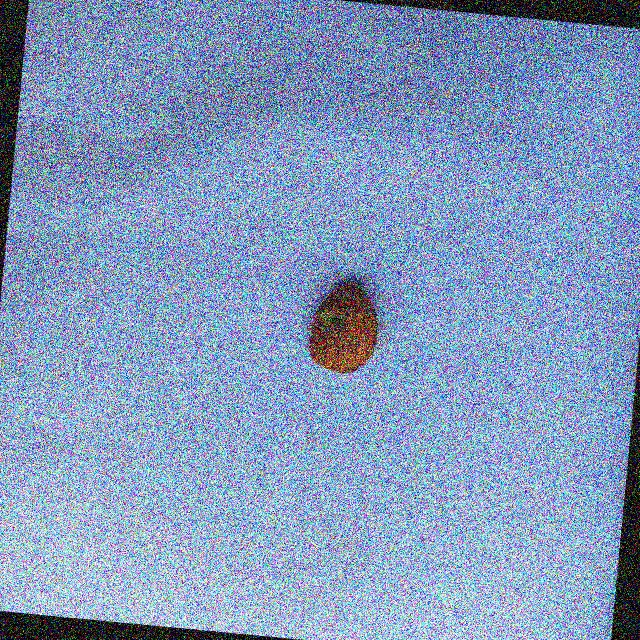grade3: (301, 276, 385, 381)
